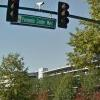Traffic light: (54, 0, 72, 42)
